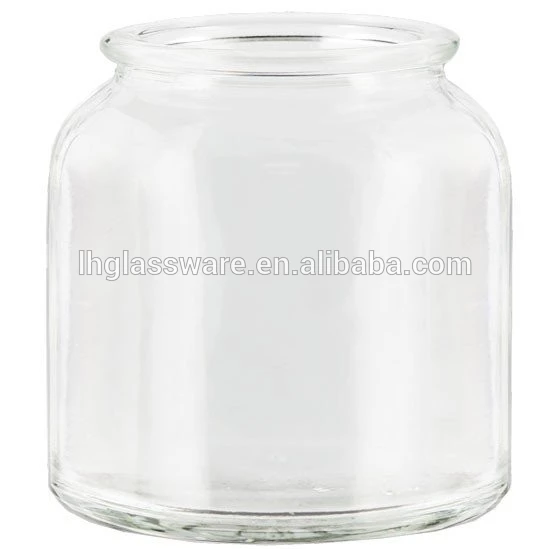glass_bottle: (41, 10, 519, 546)
